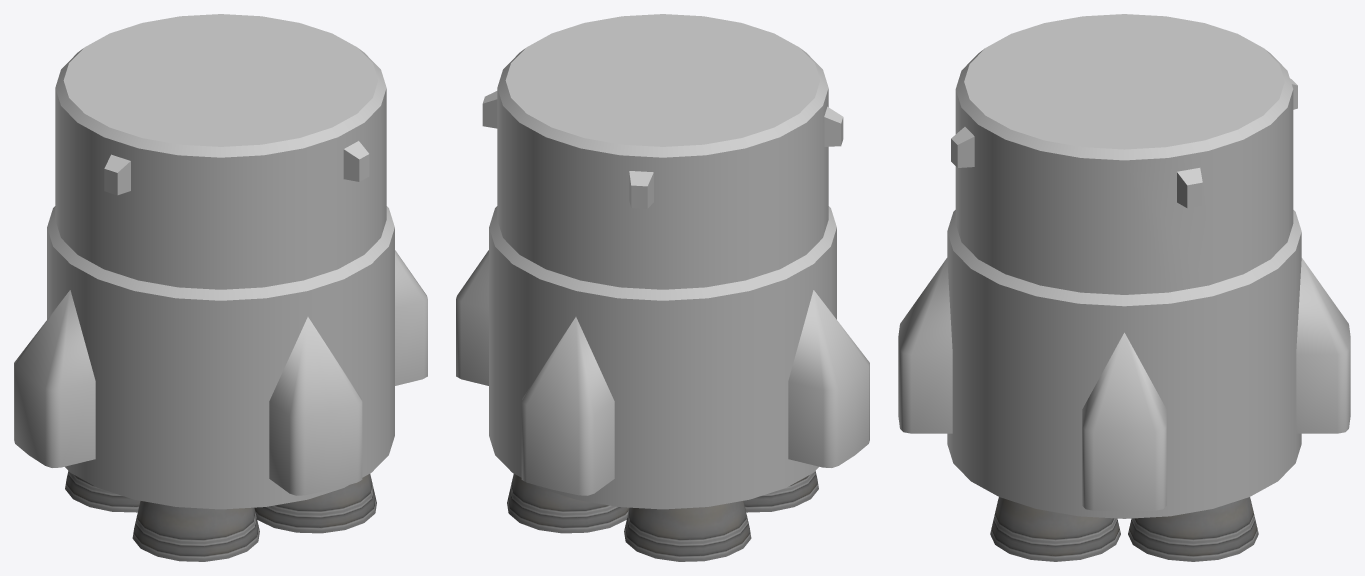
File: TLV_1_Engine_1.obj
The picture shows the model from 3 angles, left to right: view 1: azimuth 30°, elevation 25°; view 2: azimuth 150°, elevation 25°; view 3: azimuth 270°, elevation 25°; orthographic projection.
Parts seen in each view (by area): view 1: TLV_1_Engine_1, TLV_1_Engine_1_Nozzles; view 2: TLV_1_Engine_1, TLV_1_Engine_1_Nozzles; view 3: TLV_1_Engine_1, TLV_1_Engine_1_Nozzles.
Part boxes in pixels (x1,y1,x2,y2): TLV_1_Engine_1: [14, 14, 427, 509]; TLV_1_Engine_1_Nozzles: [65, 471, 376, 561]; TLV_1_Engine_1: [456, 14, 869, 509]; TLV_1_Engine_1_Nozzles: [507, 471, 818, 561]; TLV_1_Engine_1: [898, 14, 1350, 518]; TLV_1_Engine_1_Nozzles: [990, 497, 1258, 561].
Size of the model in its own units: 1.67 by 1.73 by 1.67.
